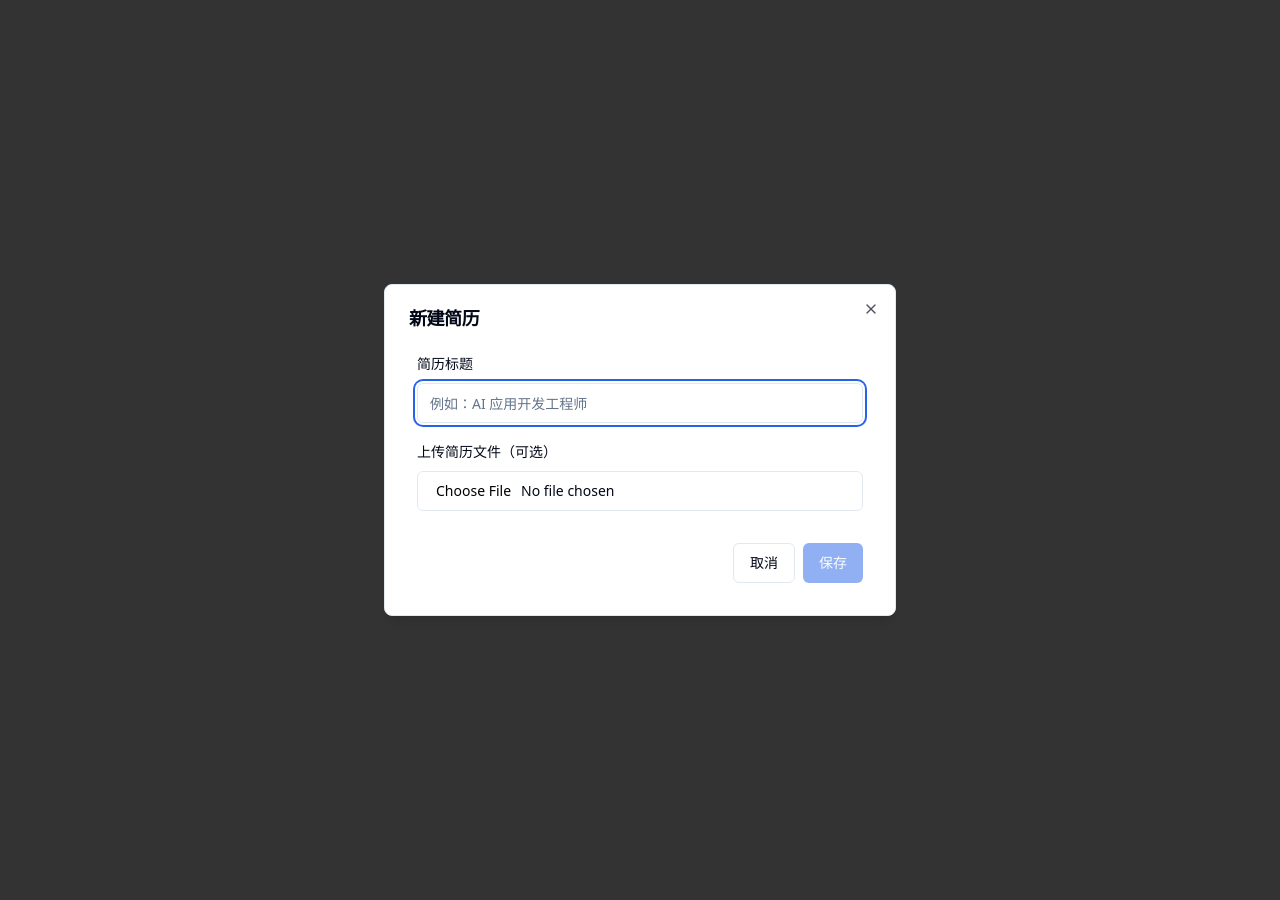
Test case: CreateResume Component › should display validation errors when form is invalid
Type "Temporary Title" into the field with test id "resume-title-input" at (640, 403), box [417,383,863,423]
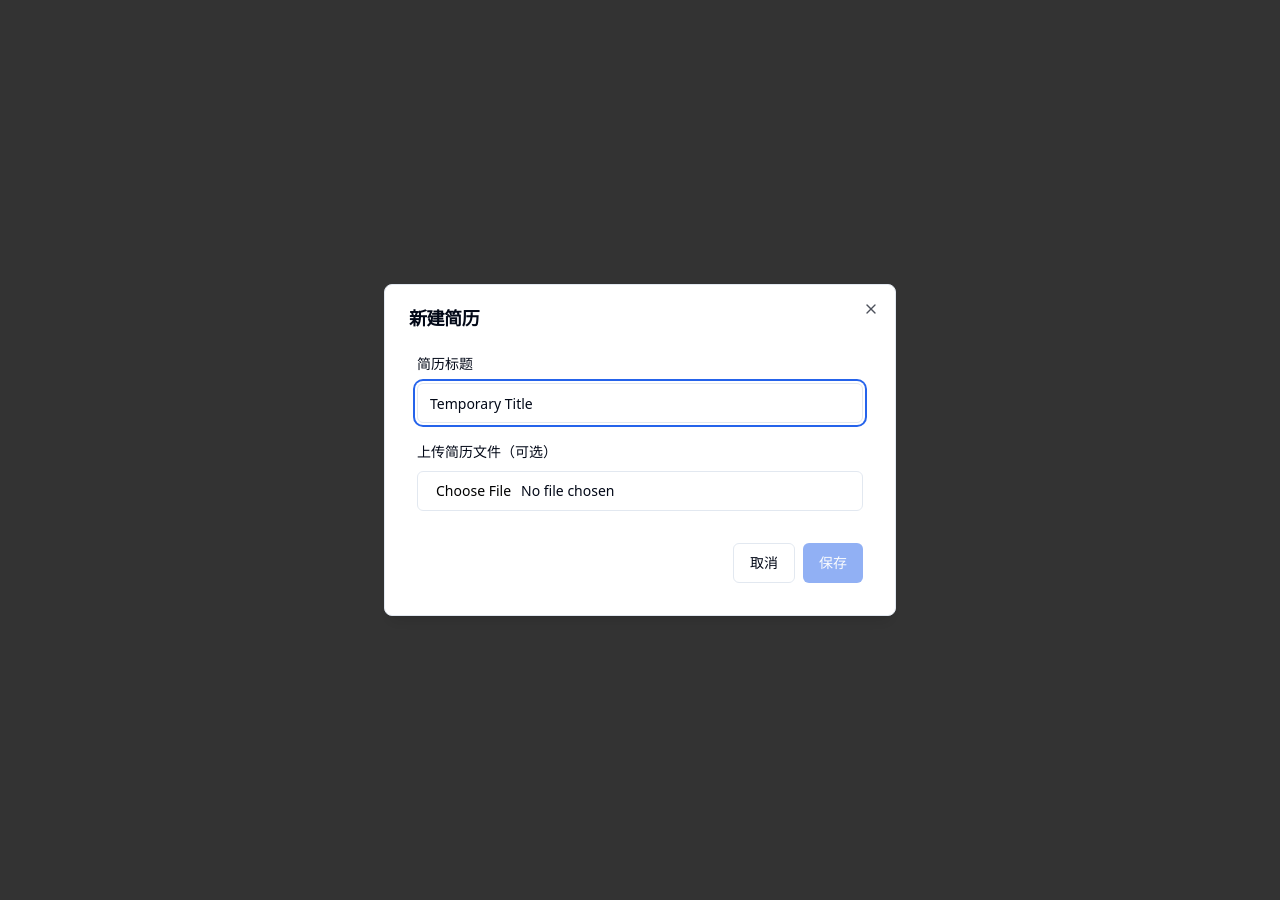
Clear the field with test id "resume-title-input" at (640, 403), box [417,383,863,423]
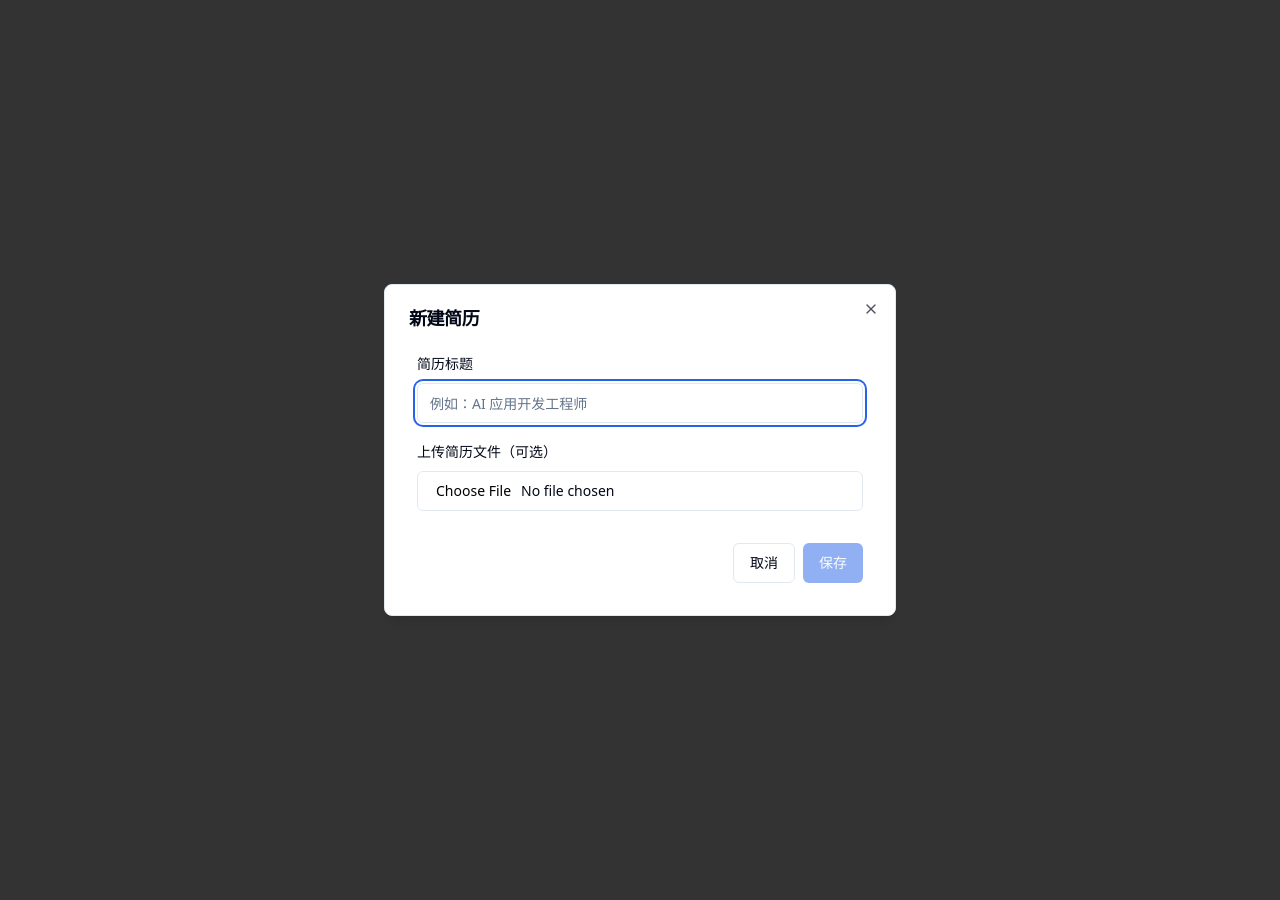
Click the button "保存" at (833, 563), box [803,543,863,583]
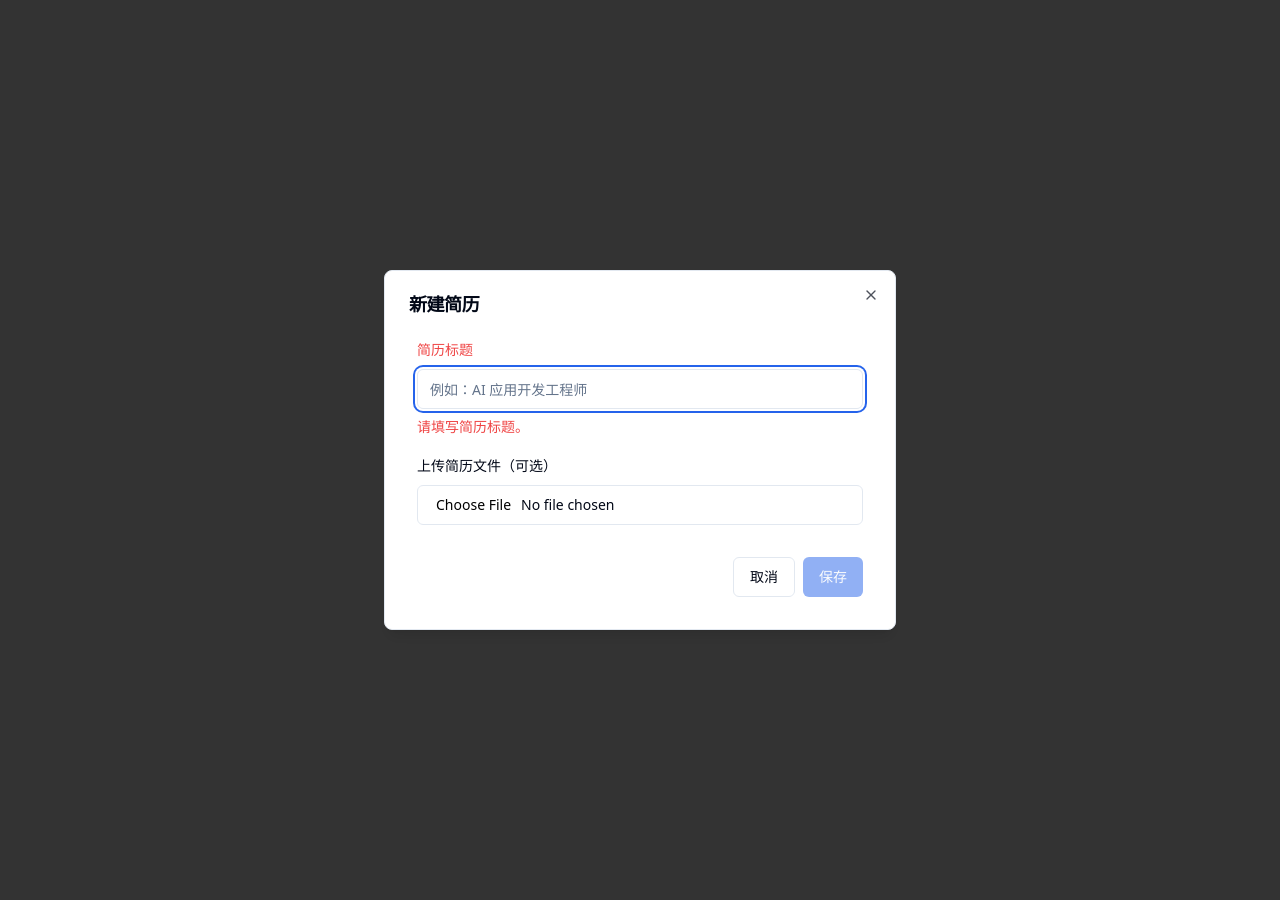
Expected: the text "请填写简历标题。" is shown, [417,417,529,436]
